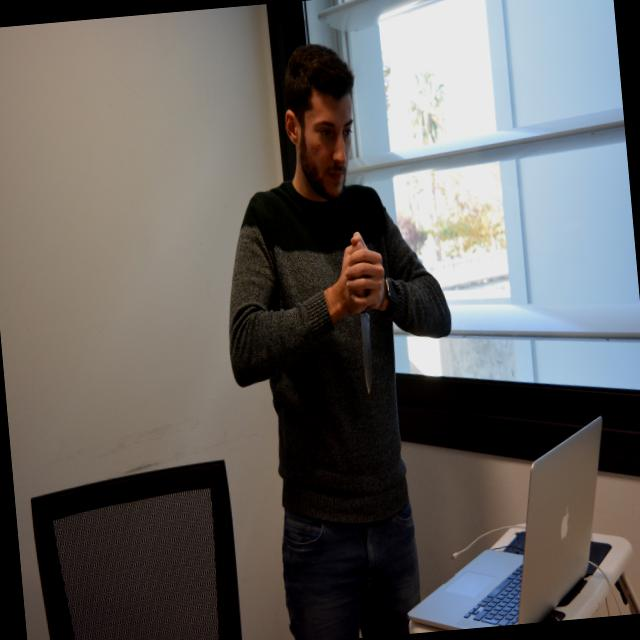knife: (352, 298, 380, 398)
